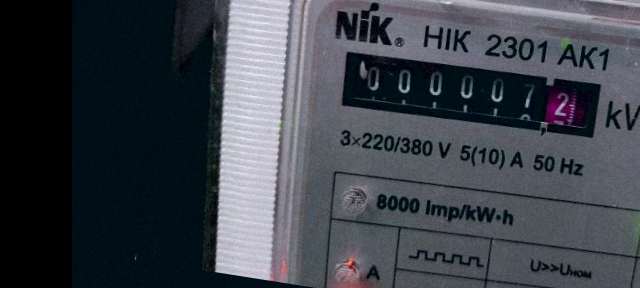0: (363, 62, 384, 92), (457, 71, 478, 100), (426, 67, 446, 97), (395, 65, 415, 94), (488, 75, 507, 105)
2: (552, 90, 572, 118)
7: (519, 79, 538, 111)
screen: (326, 36, 614, 151)
